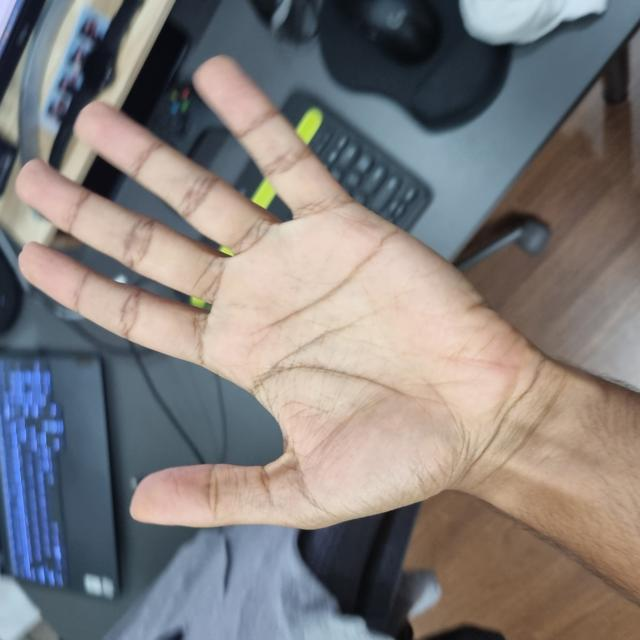Paper: (110, 9, 585, 541)
